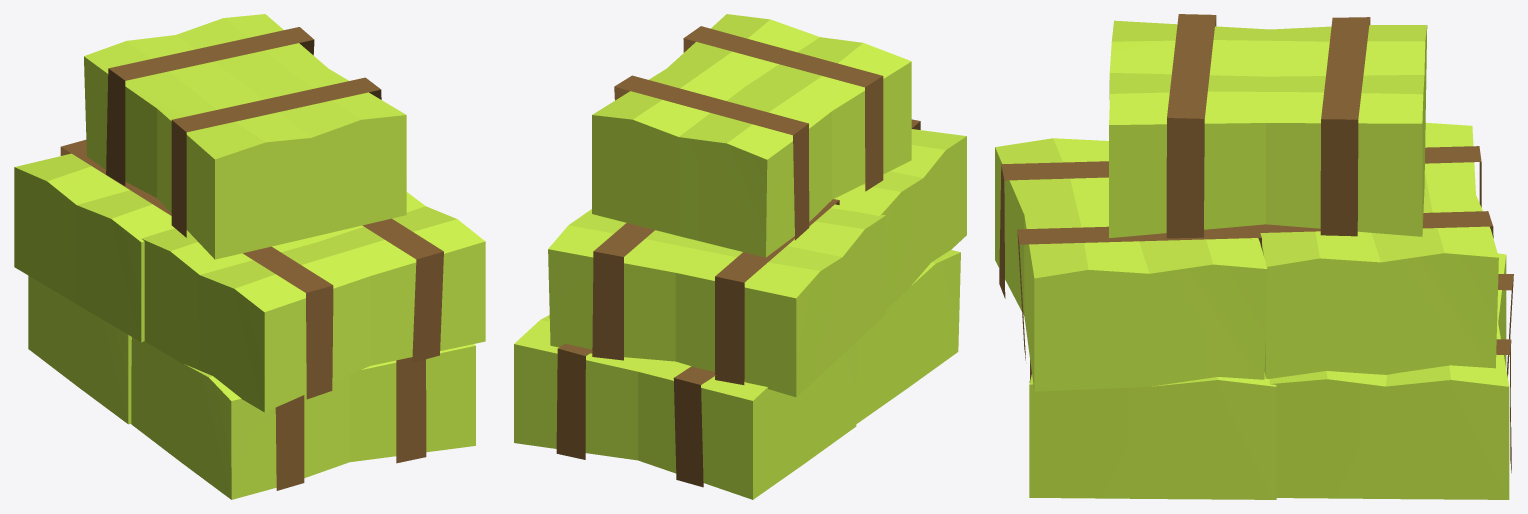
File: bale.obj
3 renders of one model, left to right at view 1: azimuth 30°, elevation 25°; view 2: azimuth 150°, elevation 25°; view 3: azimuth 270°, elevation 25°, orthographic. The views are drawn at different scales.
Parts seen in each view (by area): view 1: straw.002, straw.005, straw.001, straw.004, straw.003; view 2: straw.002, straw.004, straw.003, straw.005, straw.001; view 3: straw.002, straw.005, straw.004, straw.003, straw.001.
Boxes of the visible parts, x1,y1,x2,y2 form: straw.002: [84, 14, 406, 259]; straw.005: [141, 192, 485, 412]; straw.001: [131, 337, 475, 499]; straw.004: [14, 139, 174, 342]; straw.003: [28, 275, 131, 424]; straw.002: [592, 14, 911, 257]; straw.004: [548, 199, 885, 397]; straw.003: [514, 315, 858, 499]; straw.005: [831, 119, 966, 309]; straw.001: [856, 250, 960, 423]; straw.002: [1109, 14, 1427, 238]; straw.005: [995, 138, 1267, 391]; straw.004: [1250, 122, 1498, 378]; straw.003: [1269, 253, 1513, 499]; straw.001: [1029, 360, 1276, 499].
Size of the model in its own units: 24.17 by 26.66 by 34.69.
1 material, 1 textured.
